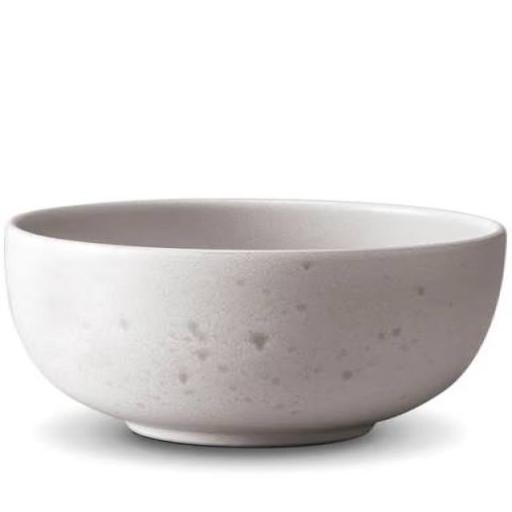Bowl: (5, 200, 505, 446)
